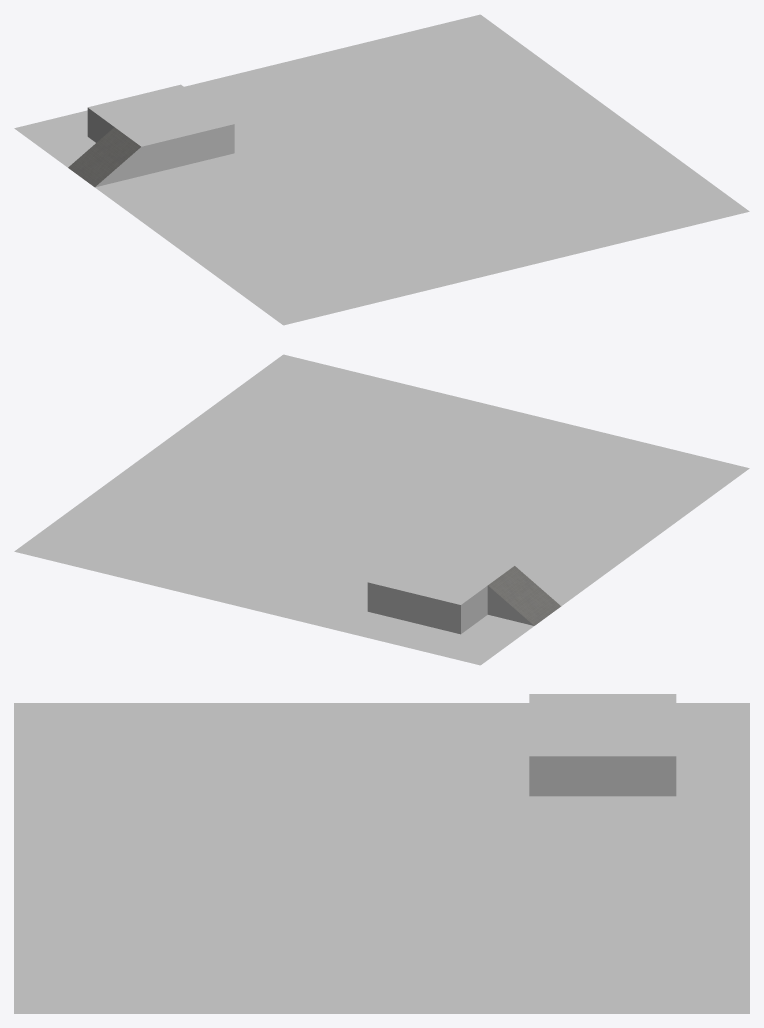
The model's file is GroundSection02.fbx.
3 renders of one model, top to bottom at view 1: azimuth 30°, elevation 25°; view 2: azimuth 150°, elevation 25°; view 3: azimuth 270°, elevation 25°, orthographic. The views are drawn at different scales.
Visible parts, largest first — view 1: GroundSection02; view 2: GroundSection02; view 3: GroundSection02.
Boxes of the visible parts, <box> form: GroundSection02: <box>14,14,749,325</box>; GroundSection02: <box>14,354,749,665</box>; GroundSection02: <box>14,694,749,1013</box>.
Bounding box in the file's own units: 100 × 6 × 100.
